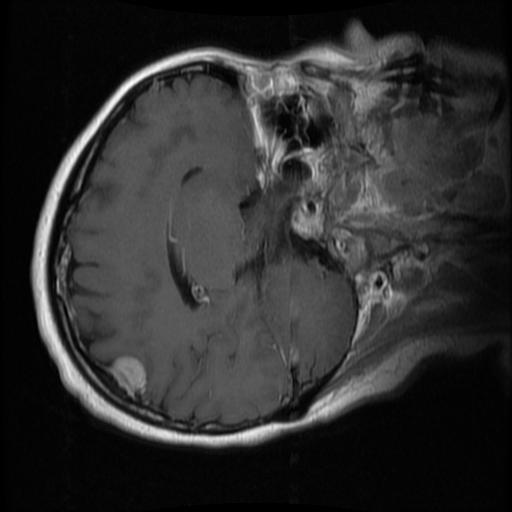meningioma: (110, 353, 146, 397)
